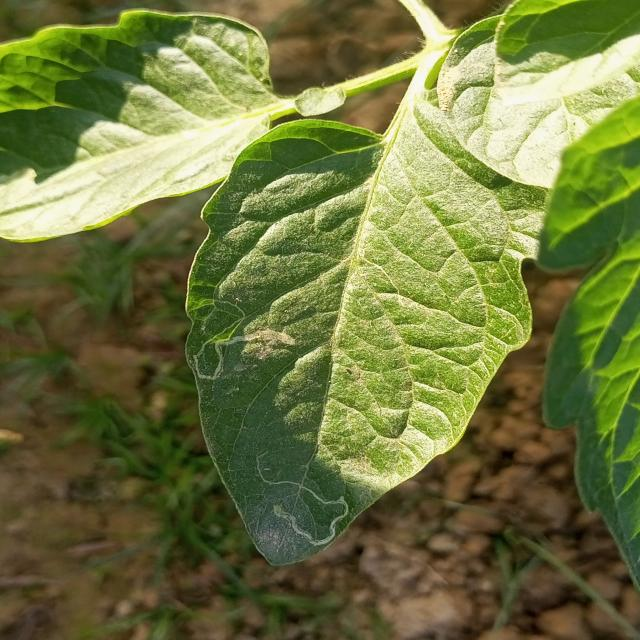Tuta absoluta: (269, 467, 357, 553), (195, 316, 298, 383)
